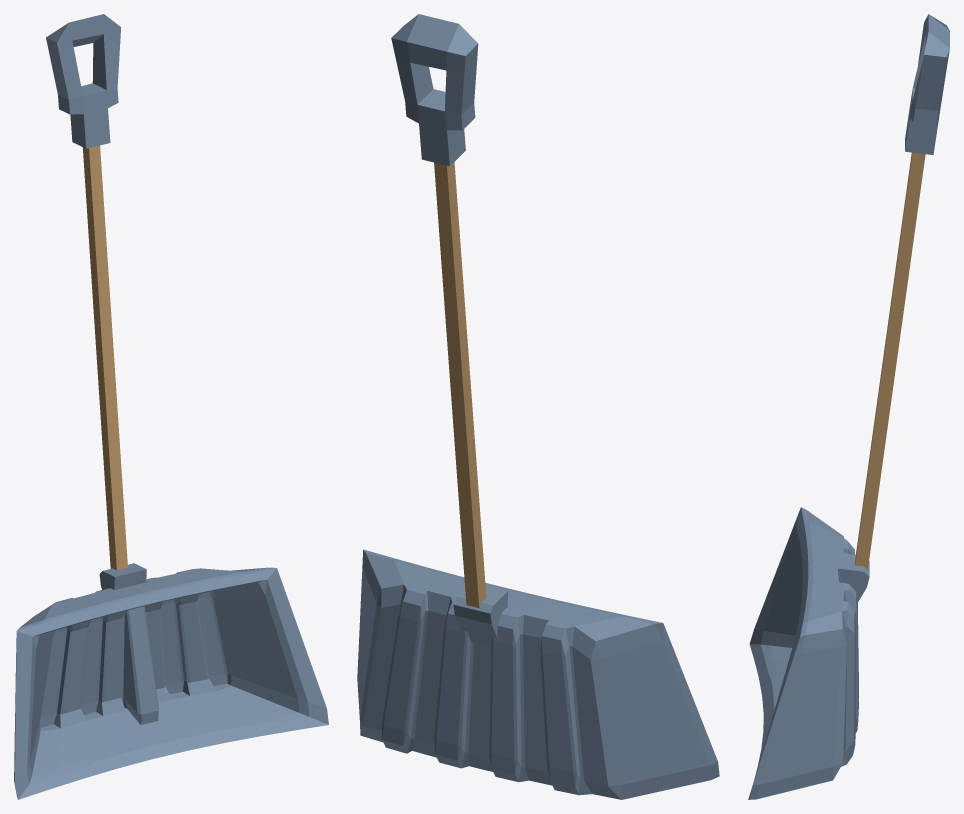
The model's file is shovel.fbx.
3 views of the same model, side by side, from view 1: azimuth 30°, elevation 25°; view 2: azimuth 150°, elevation 25°; view 3: azimuth 270°, elevation 25° (orthographic). The views are drawn at different scales.
Visible parts, largest first — view 1: ShovelStick; view 2: ShovelStick; view 3: ShovelStick.
Part boxes in pixels (left/top/right/bottom): ShovelStick: left=14, top=14, right=328, bottom=799; ShovelStick: left=357, top=14, right=719, bottom=799; ShovelStick: left=748, top=14, right=949, bottom=799.
Size of the model in its own units: 444 by 927 by 242.
